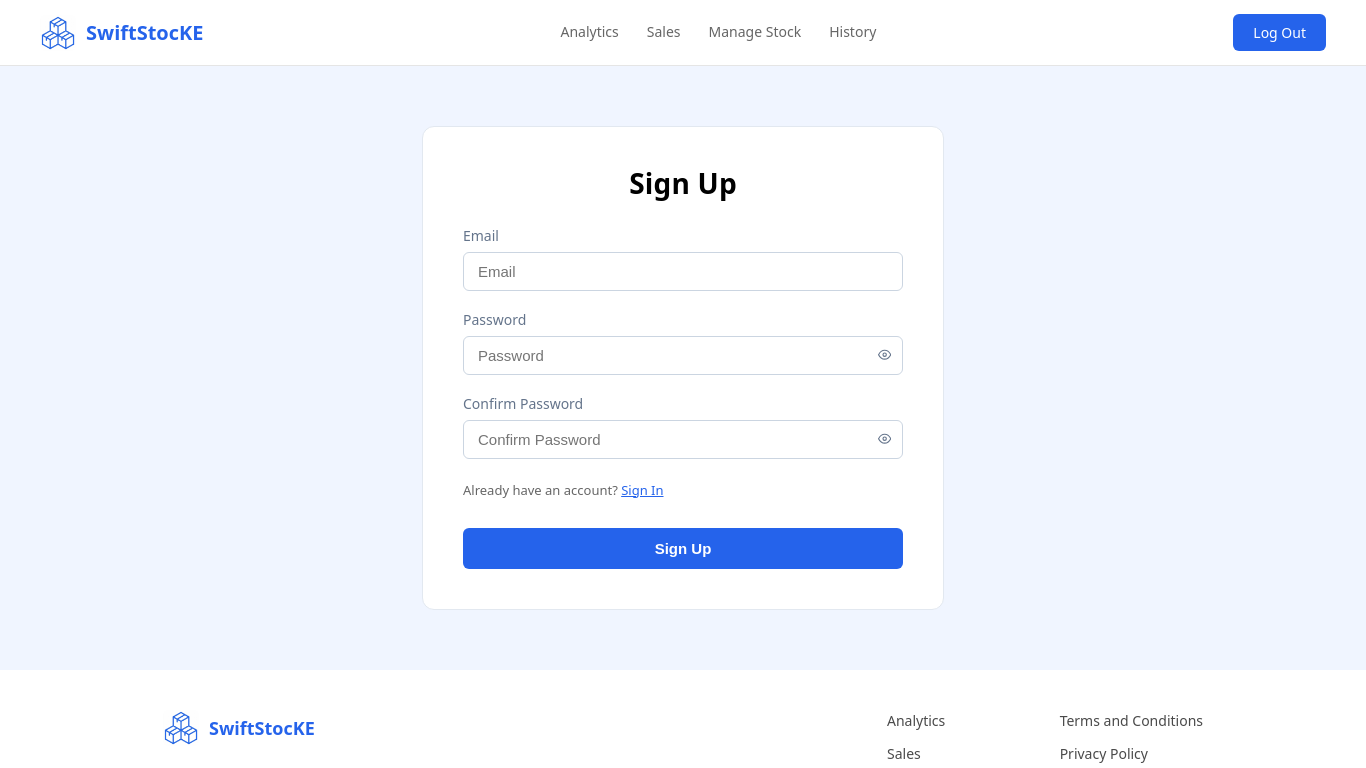
it: Sign Up Page › navigates to sign in page from sign up page
Click the link "Sign In" at coordinates (642, 490), box [621,481,664,499]
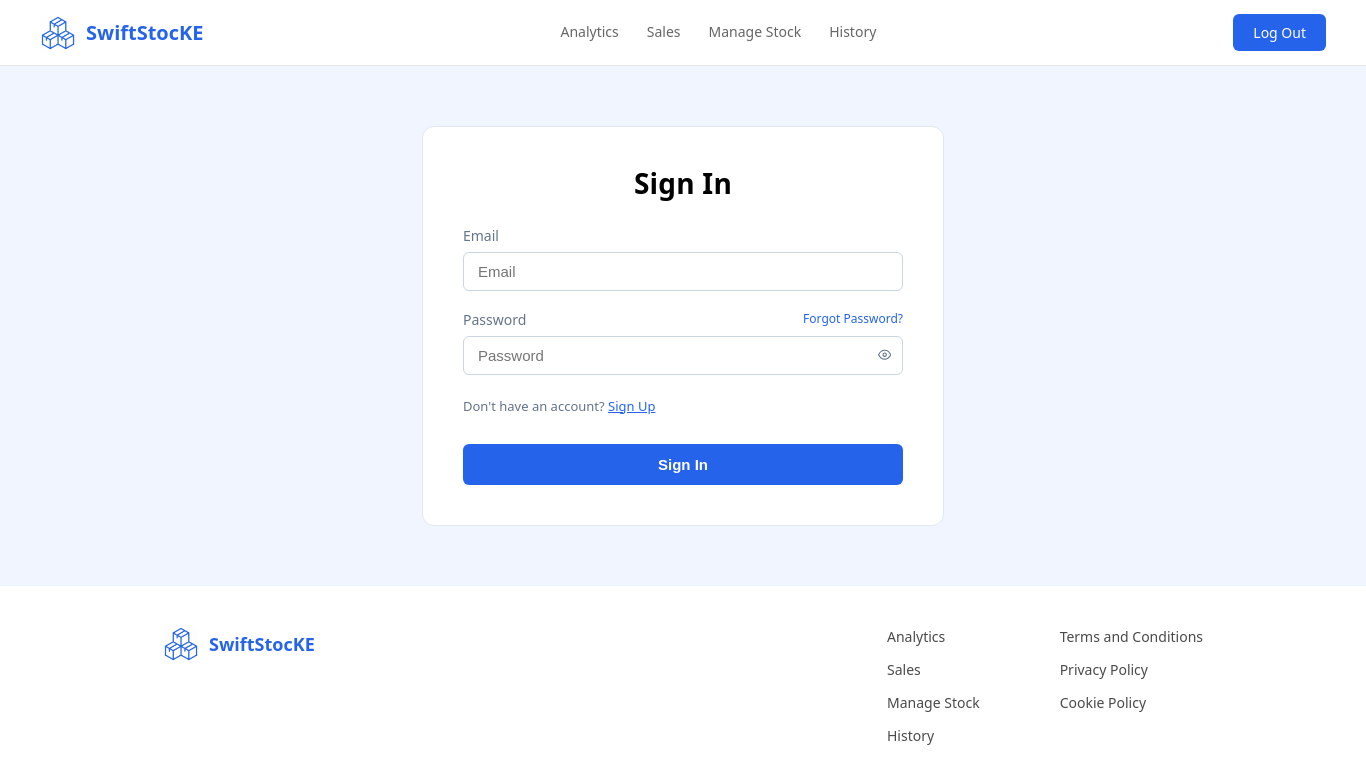
Expected: the heading with test id "signin-title" reads "Sign In", [634,164,732,202]
